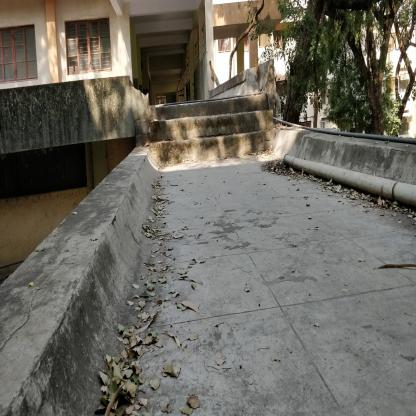stairs: (161, 102, 268, 164)
